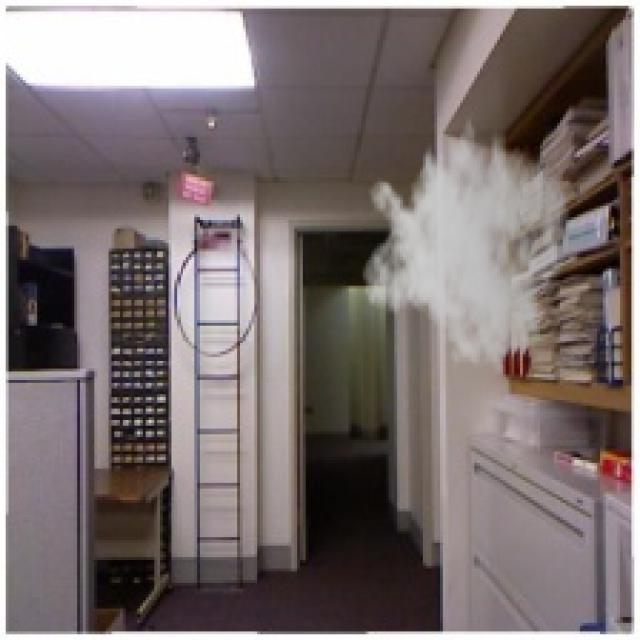Smoke: (359, 102, 572, 378)
